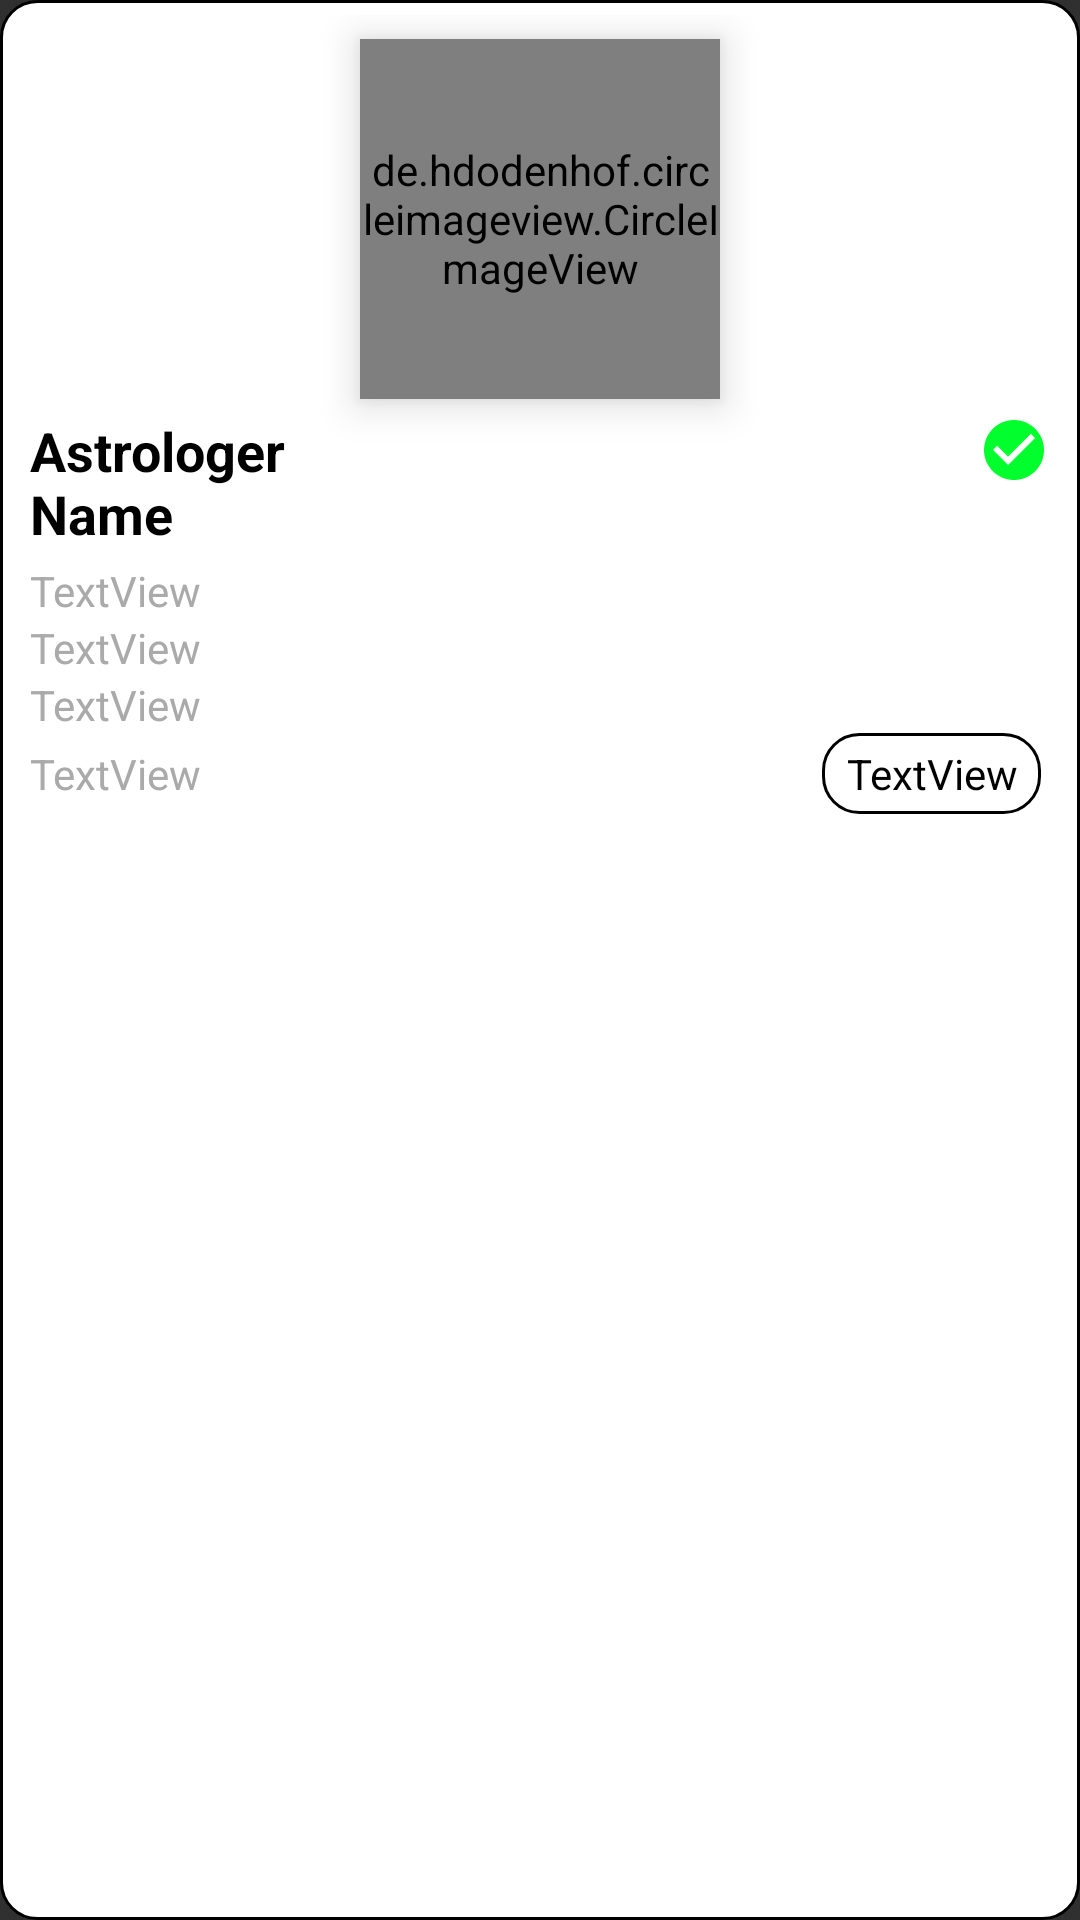

Named icons in this screenshot (1080x1920) and their bounding boxes, (x1, y1, x2, y2):
check circle: (984, 420, 1044, 480)
